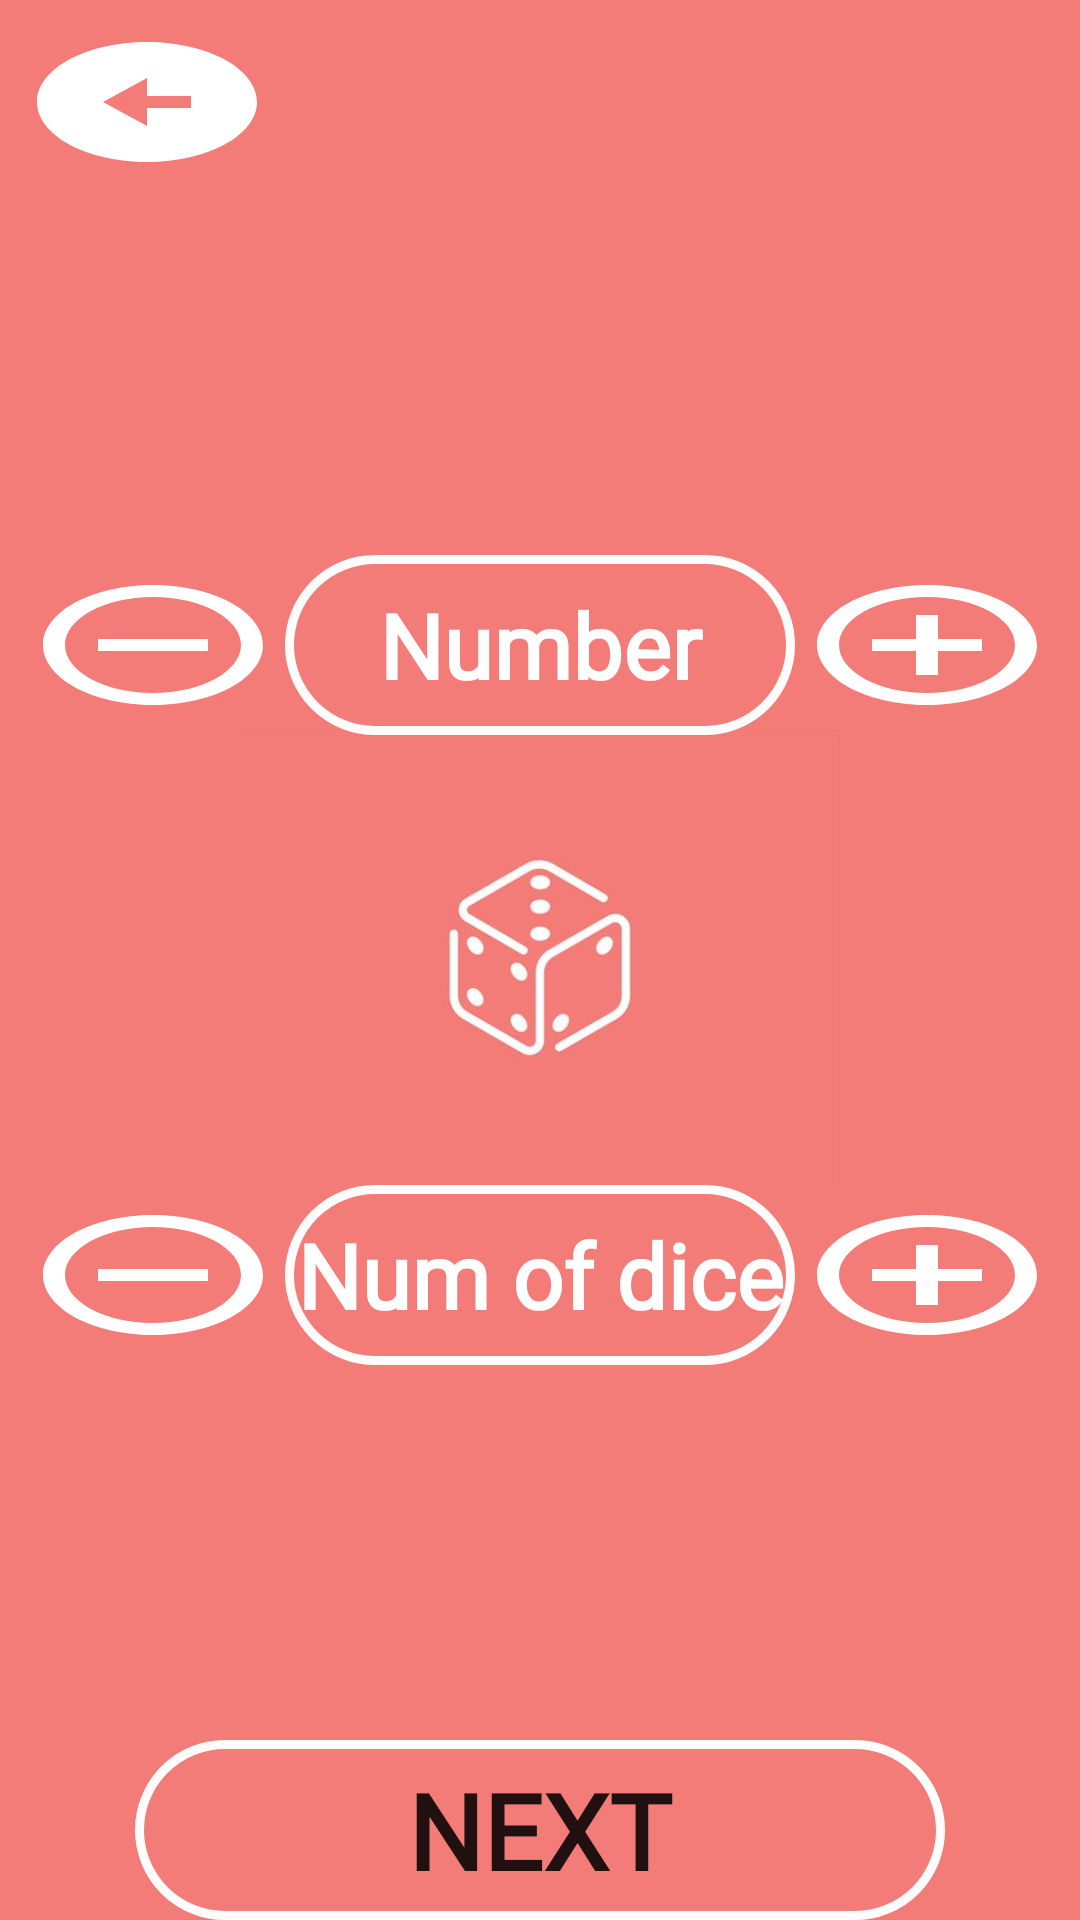

Where icons sit on this 1080 × 1920 app screen, as Rect(x1, y1, x2, y2):
add circle: Rect(817, 585, 1037, 705), Rect(817, 1215, 1037, 1335)
arrow circle left: Rect(37, 42, 257, 162)
remove circle: Rect(43, 585, 263, 705), Rect(43, 1215, 263, 1335)
